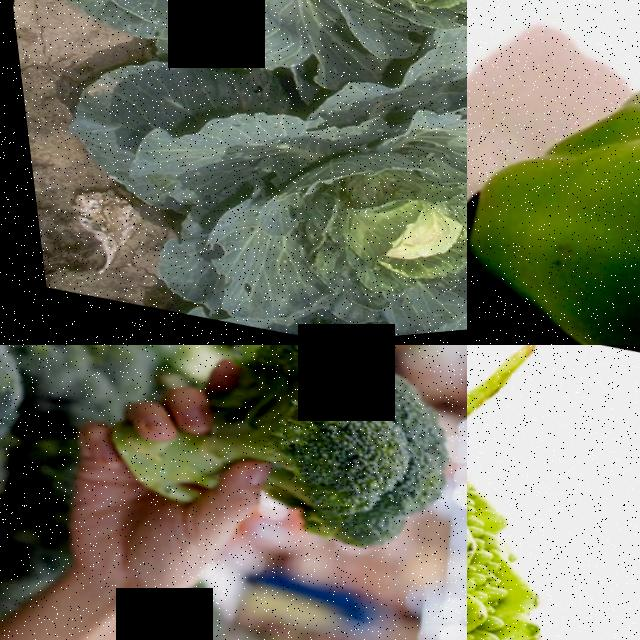bell pepper: (467, 0, 640, 345)
bitter gourd: (467, 357, 611, 640)
broccoli: (209, 345, 467, 576)
cabbage: (33, 0, 467, 345), (25, 0, 467, 101)
